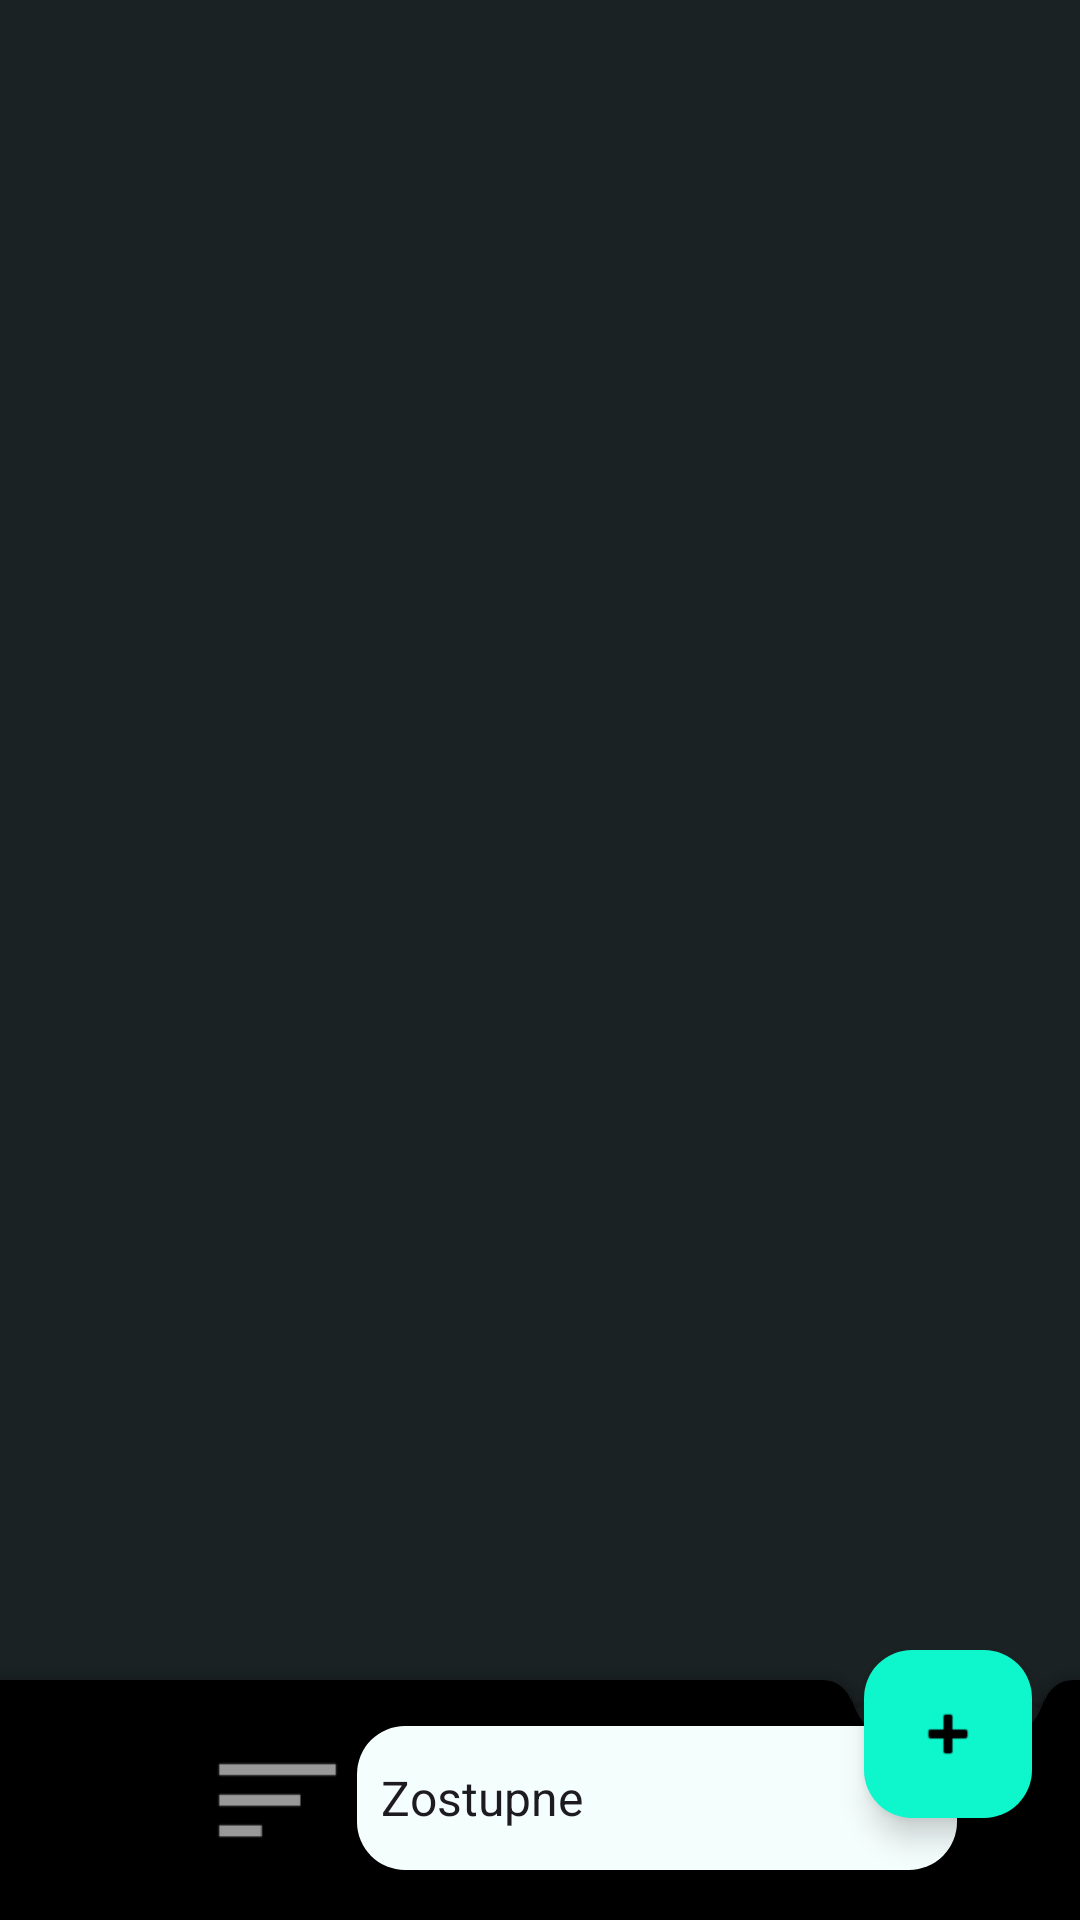

Where to tap for icons on this 1080 x 1920 app screen, as (x=x, y=y):
sort by size: (x=277, y=1800)
